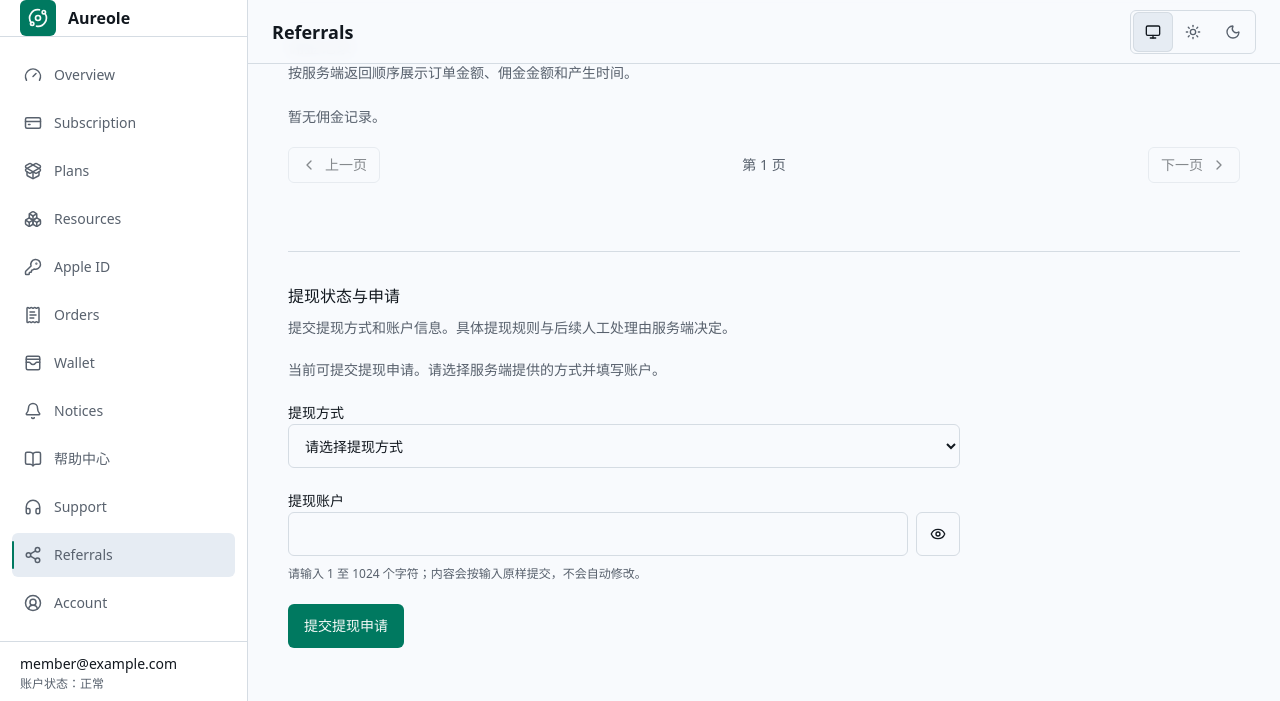
Test: Withdrawal Request authority and confirmation › preserves server method order and raw account through explicit confirmation
(page scrolled)
Select "bank_wire" in the dropdown labelled "提现方式" at {"x": 624, "y": 446}, box [288,424,960,468]
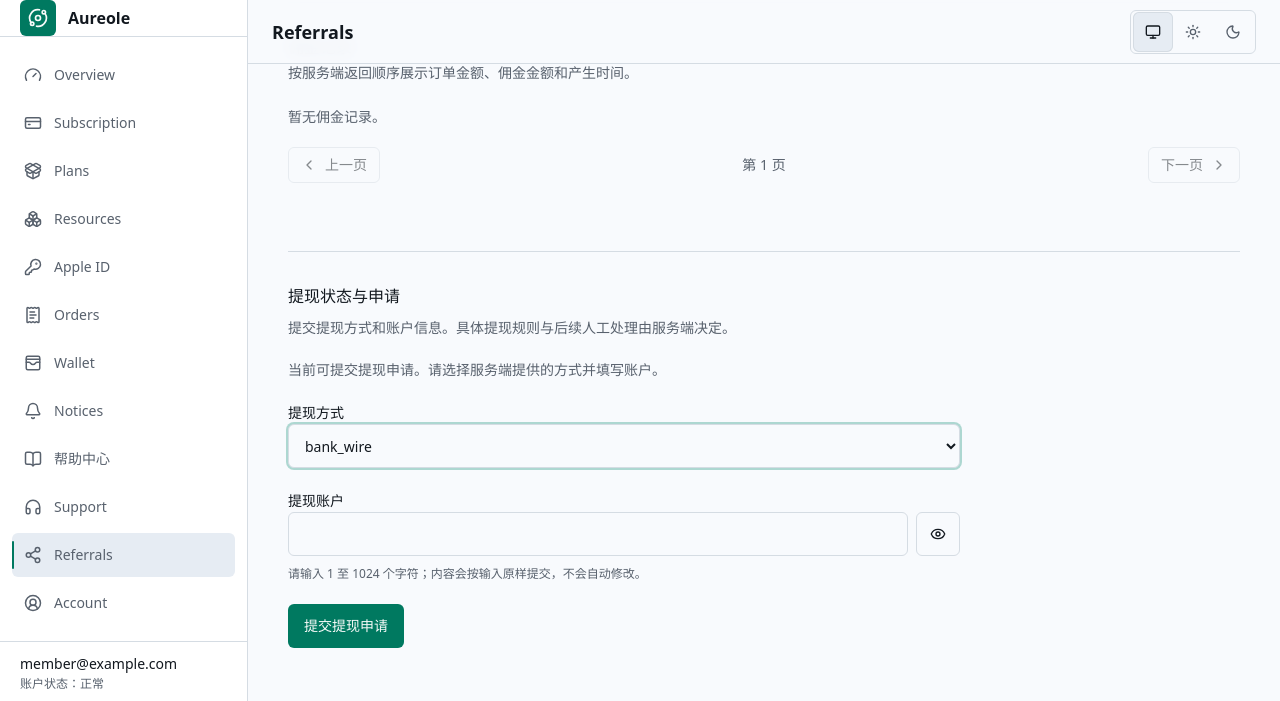
Type "  Mixed.Case+Account  " into the password field labelled "提现账户".
click(598, 534); type("  Mixed.Case+Account  ")  # box [288,512,908,556]
(page scrolled)
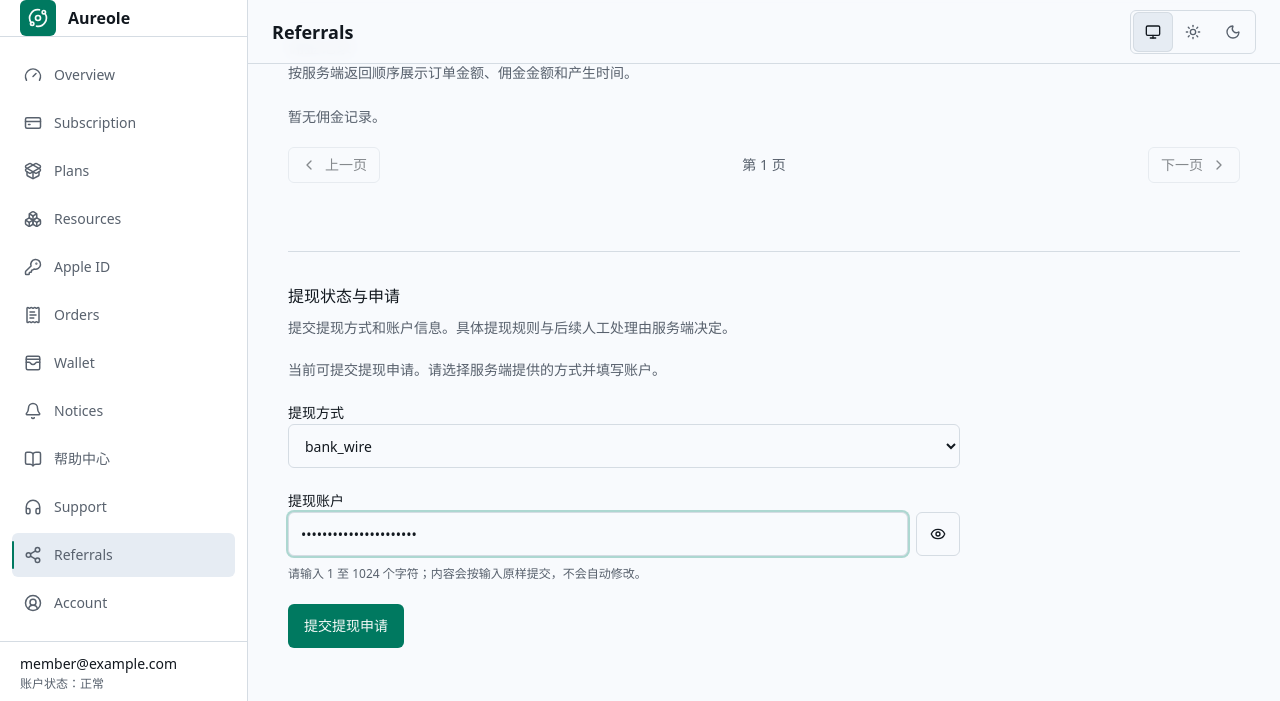
Click the button "提交提现申请".
click(346, 626)  # box [288,604,404,648]
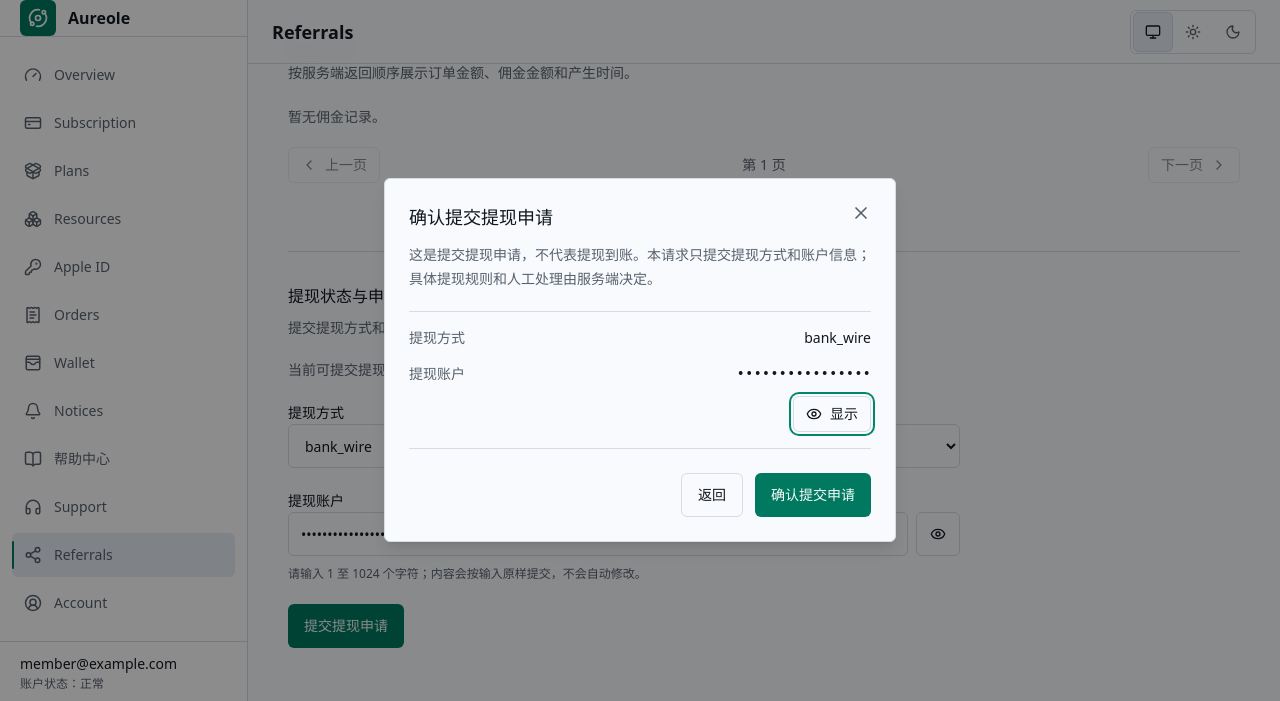
Expected: the text " Mixed.Case+Account " is not shown
Expected: the text "bank_wire" is shown, [804,328,871,348]
Expected: the button with aria-label "显示确认中的提现账户" is shown
Click the button with aria-label "显示确认中的提现账户".
click(832, 414)  # box [793,396,871,432]
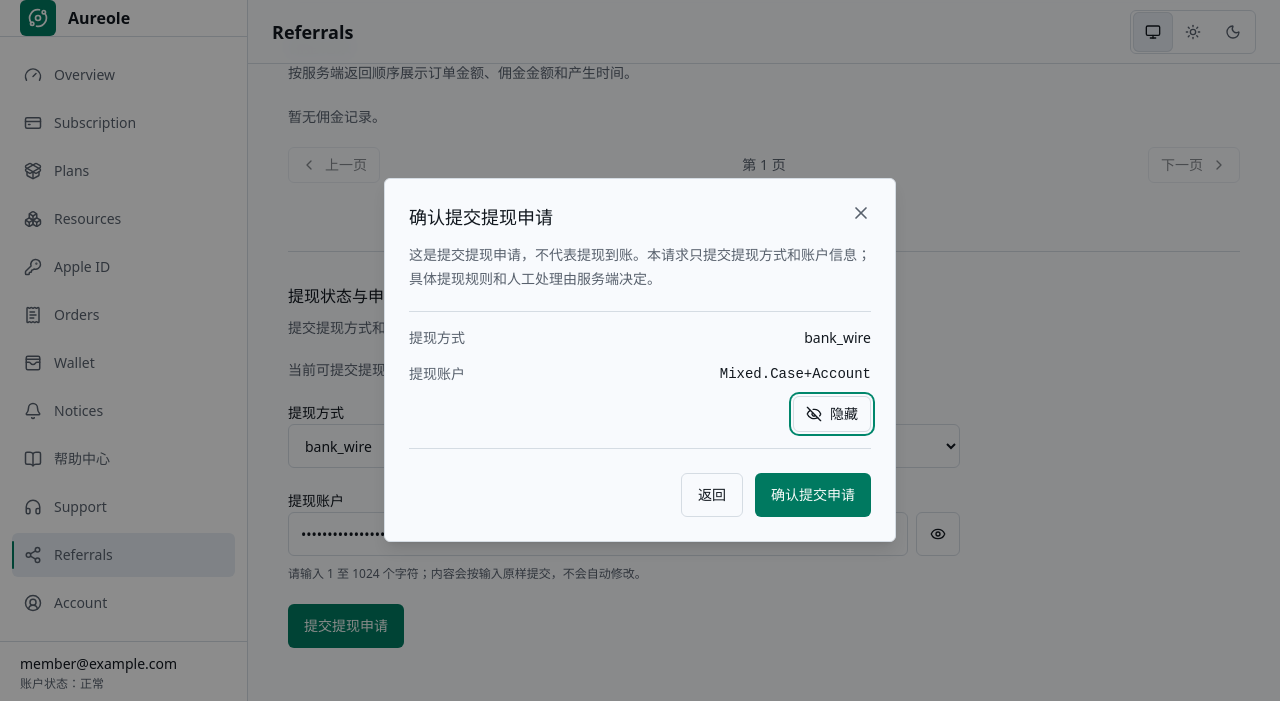
Click the button "返回".
click(712, 495)  # box [681,473,743,517]
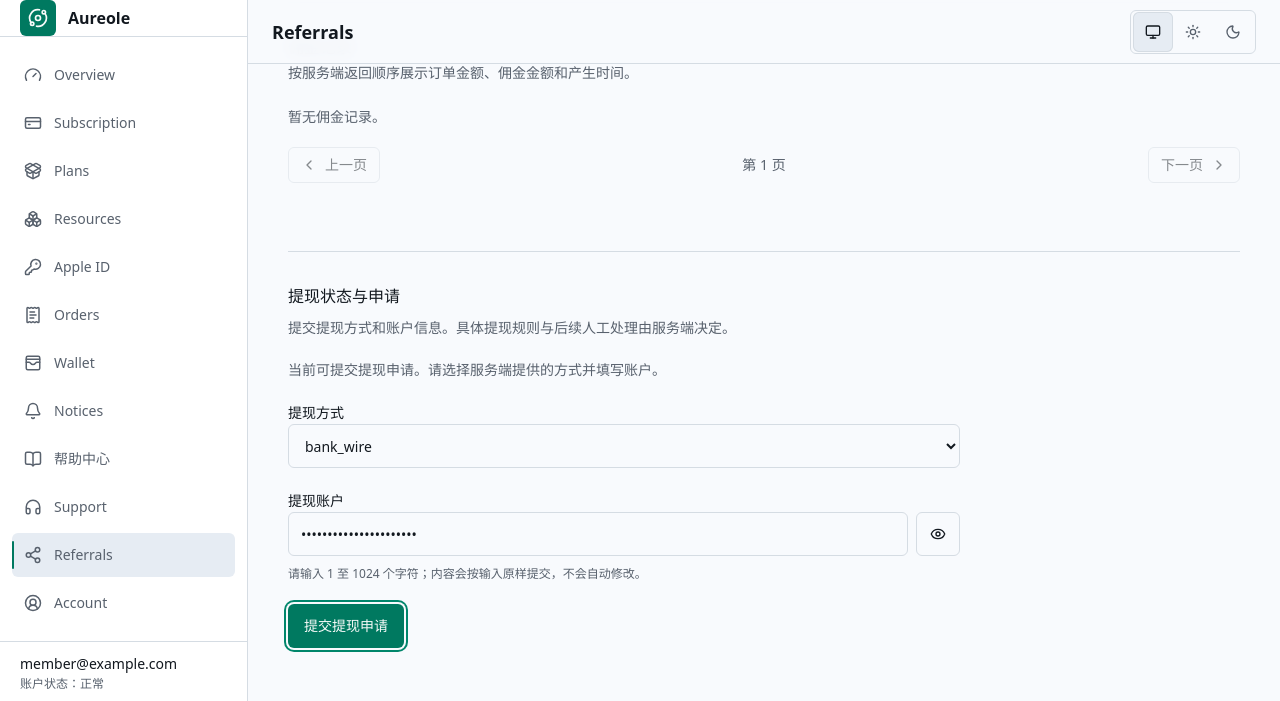
Expected: the dialog is gone
Click the button "提交提现申请".
click(346, 626)  # box [288,604,404,648]
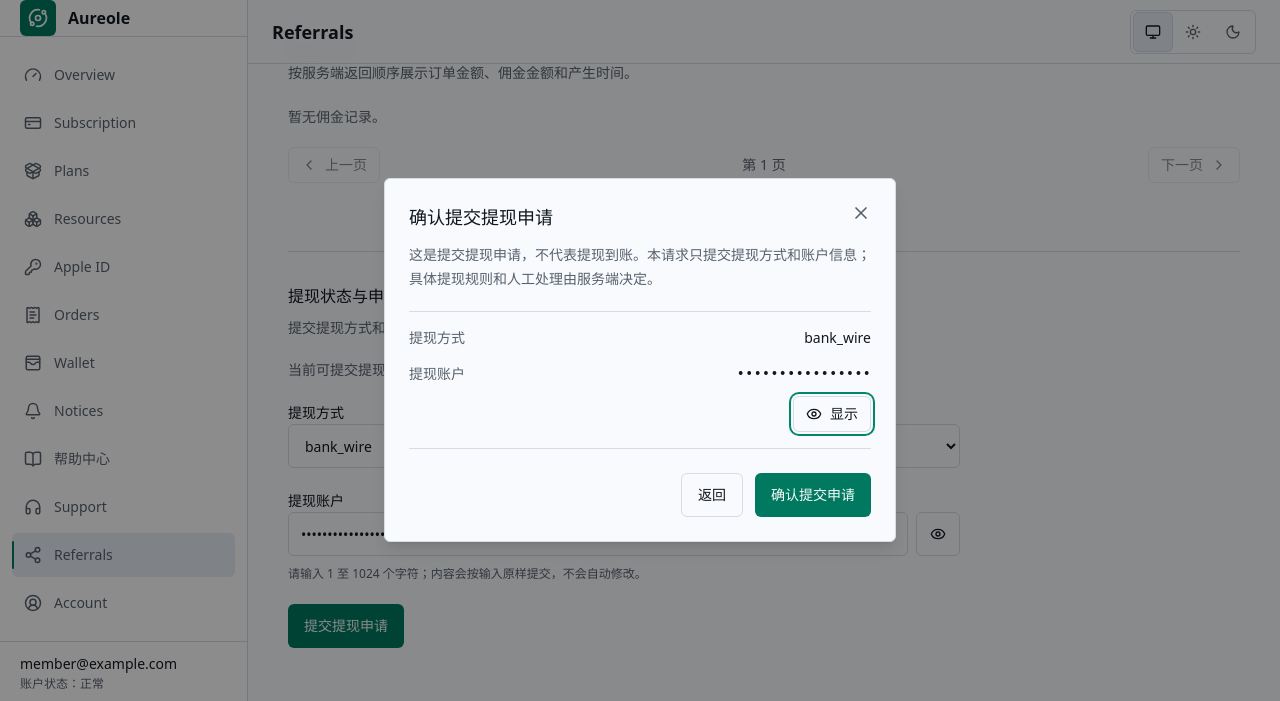
Expected: the button with aria-label "显示确认中的提现账户" is shown, [793,396,871,432]
